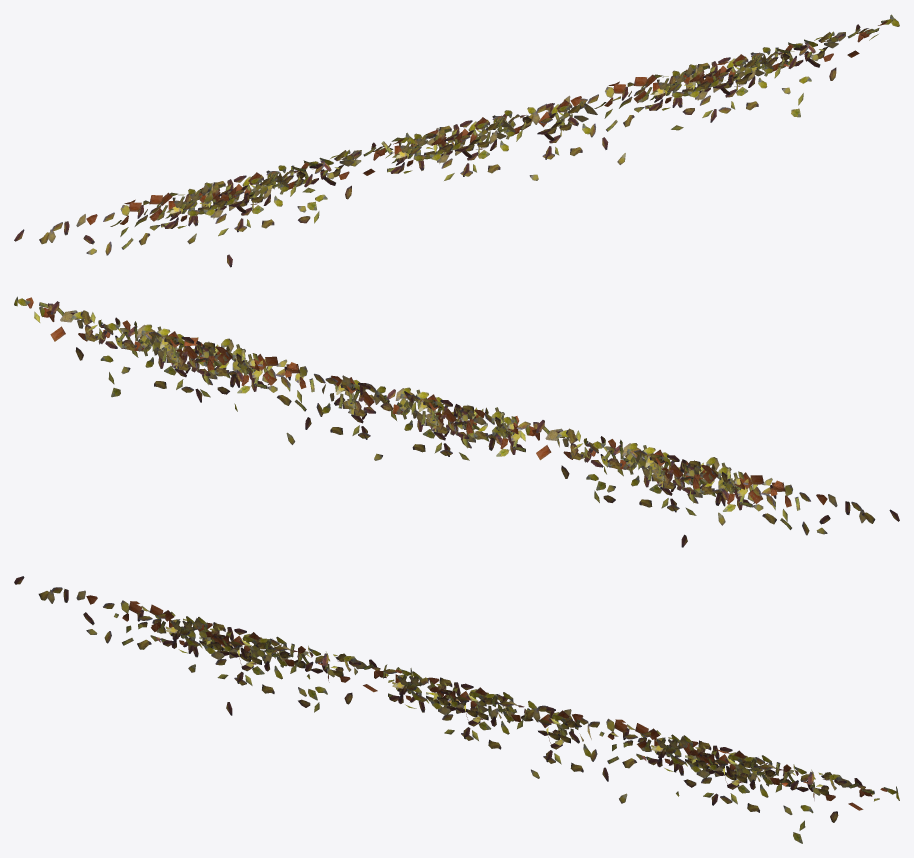
The model's file is hd_dec_UNI_008_LeavesAutumnDark_8m_Norrow.glb.
The picture shows the model from 3 angles, top to bottom: view 1: azimuth 30°, elevation 25°; view 2: azimuth 150°, elevation 25°; view 3: azimuth 330°, elevation 25°; orthographic projection.
Visible parts, largest first — view 1: set_0_group_0; view 2: set_0_group_0; view 3: set_0_group_0.
Boxes of the visible parts, x1,y1,x2,y2 form: set_0_group_0: [14, 14, 899, 267]; set_0_group_0: [14, 296, 899, 547]; set_0_group_0: [14, 576, 899, 843].
Size of the model in its own units: 10.75 by 1.1 by 0.2115.
Materials: 1 (1 with a texture image).
